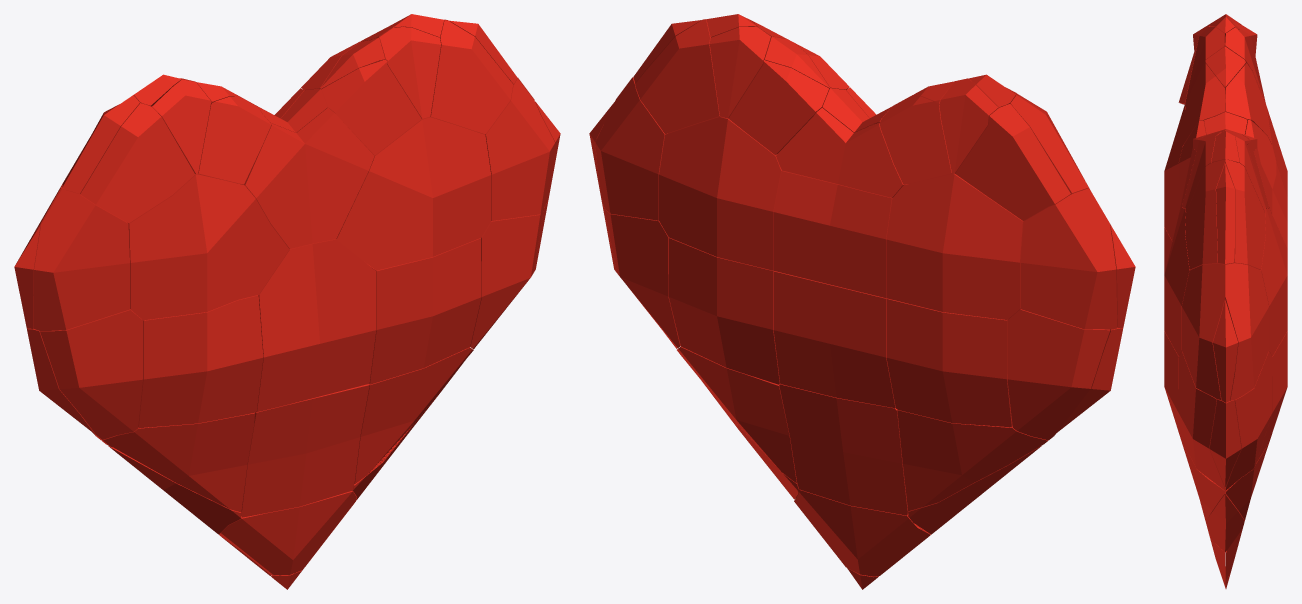
Rendered from heart.fbx.
3 renders of one model, left to right at view 1: azimuth 30°, elevation 25°; view 2: azimuth 150°, elevation 25°; view 3: azimuth 270°, elevation 25°, orthographic. The views are drawn at different scales.
Parts seen in each view (by area): view 1: Cube.016_cell.029, Cube.016_cell.033, Cube.016_cell.020, Cube.016_cell.021, Cube.016_cell.054, Cube.016_cell.028, Cube.016_cell.026, Cube.016_cell.023, Cube.016_cell.022, Cube.016_cell.035, Cube.016_cell.027, Cube.016_cell.025 (+16 smaller); view 2: Cube.016_cell.049, Cube.016_cell.047, Cube.016_cell.050, Cube.016_cell.053, Cube.016_cell.052, Cube.016_cell.051, Cube.016_cell.048, Cube.016_cell.012, Cube.016_cell.015, Cube.016_cell.001, Cube.016_cell.003, Cube.016_cell.014 (+18 smaller); view 3: Cube.016_cell.014, Cube.016_cell.025, Cube.016_cell.024, Cube.016_cell.017, Cube.016_cell.031, Cube.016_cell.002, Cube.016_cell.047, Cube.016_cell.033, Cube.016_cell.010, Cube.016_cell.005, Cube.016_cell.036, Cube.016_cell.016 (+26 smaller).
Part boxes in pixels (left/top/right/bottom): Cube.016_cell.029: left=128, top=174, right=289, bottom=320; Cube.016_cell.033: left=336, top=117, right=491, bottom=270; Cube.016_cell.020: left=256, top=239, right=376, bottom=411; Cube.016_cell.021: left=138, top=295, right=263, bottom=428; Cube.016_cell.054: left=241, top=384, right=369, bottom=517; Cube.016_cell.028: left=240, top=108, right=374, bottom=248; Cube.016_cell.026: left=367, top=238, right=481, bottom=384; Cube.016_cell.023: left=33, top=189, right=129, bottom=330; Cube.016_cell.022: left=40, top=309, right=142, bottom=439; Cube.016_cell.035: left=103, top=412, right=254, bottom=512; Cube.016_cell.027: left=80, top=103, right=194, bottom=222; Cube.016_cell.025: left=483, top=78, right=554, bottom=220; Cube.016_cell.049: left=886, top=173, right=1024, bottom=319; Cube.016_cell.047: left=659, top=116, right=783, bottom=270; Cube.016_cell.050: left=886, top=298, right=1012, bottom=427; Cube.016_cell.053: left=773, top=271, right=895, bottom=408; Cube.016_cell.052: left=779, top=384, right=908, bottom=515; Cube.016_cell.051: left=773, top=171, right=892, bottom=297; Cube.016_cell.048: left=668, top=237, right=780, bottom=384; Cube.016_cell.012: left=1020, top=188, right=1117, bottom=329; Cube.016_cell.015: left=1007, top=308, right=1110, bottom=440; Cube.016_cell.001: left=897, top=410, right=1048, bottom=510; Cube.016_cell.003: left=955, top=104, right=1070, bottom=220; Cube.016_cell.014: left=595, top=77, right=667, bottom=220; Cube.016_cell.014: left=1225, top=263, right=1269, bottom=400; Cube.016_cell.025: left=1182, top=263, right=1224, bottom=399; Cube.016_cell.024: left=1178, top=351, right=1224, bottom=490; Cube.016_cell.017: left=1225, top=351, right=1272, bottom=490; Cube.016_cell.031: left=1185, top=159, right=1224, bottom=269; Cube.016_cell.002: left=1225, top=159, right=1265, bottom=269; Cube.016_cell.047: left=1260, top=208, right=1287, bottom=356; Cube.016_cell.033: left=1164, top=208, right=1225, bottom=356; Cube.016_cell.010: left=1209, top=399, right=1241, bottom=486; Cube.016_cell.005: left=1225, top=63, right=1271, bottom=144; Cube.016_cell.036: left=1183, top=62, right=1224, bottom=145; Cube.016_cell.016: left=1213, top=299, right=1238, bottom=402.
Bounding box in the file's own units: 217 × 207 × 44.79.
